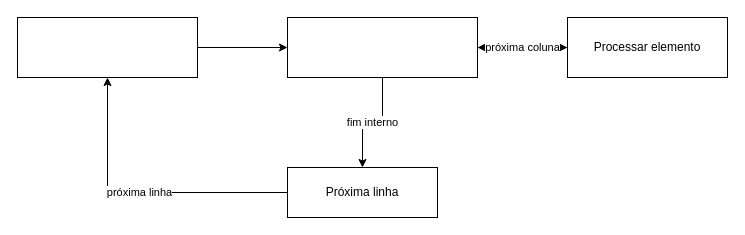
Some shapes in this 745 by 235 pixel diagram are drawn without their labels. Each missing label, with the box of its shape:
Loop externo linha = 0..n-1: (16, 16, 198, 78)
Loop interno coluna = 0..m-1: (286, 16, 478, 78)
